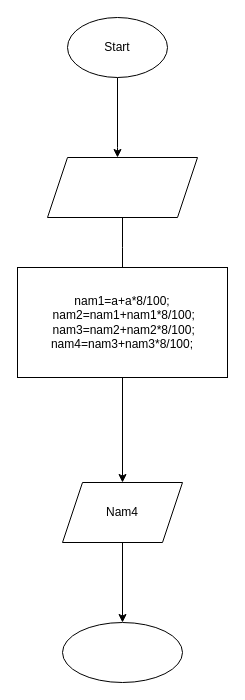
This 245x700 diagram has some shape labels left out. The shapes that lost their labels are listed below. From the top down, each one's centre as x and y in pixels, then its label:
At point 122,187: "nhap vao a so tien gui".
At point 122,652: "end".
